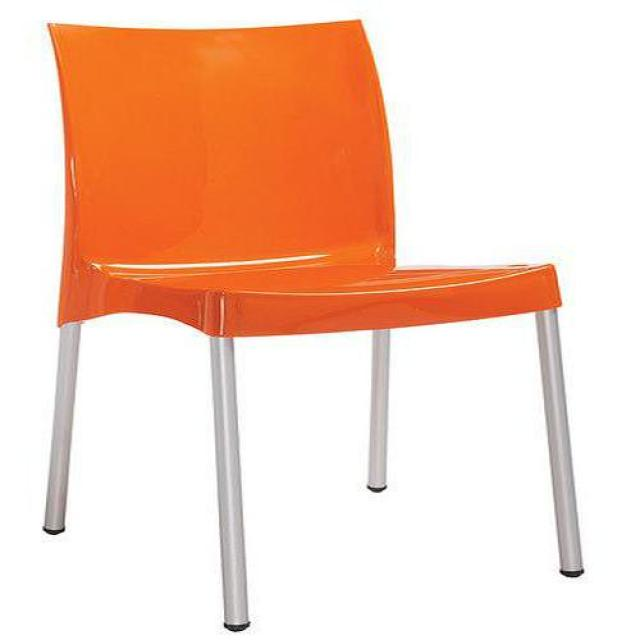chair: (44, 19, 588, 634)
